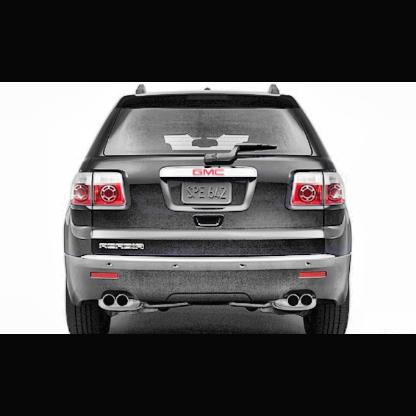GMC Acadia SUV 2012: (53, 83, 365, 328)
